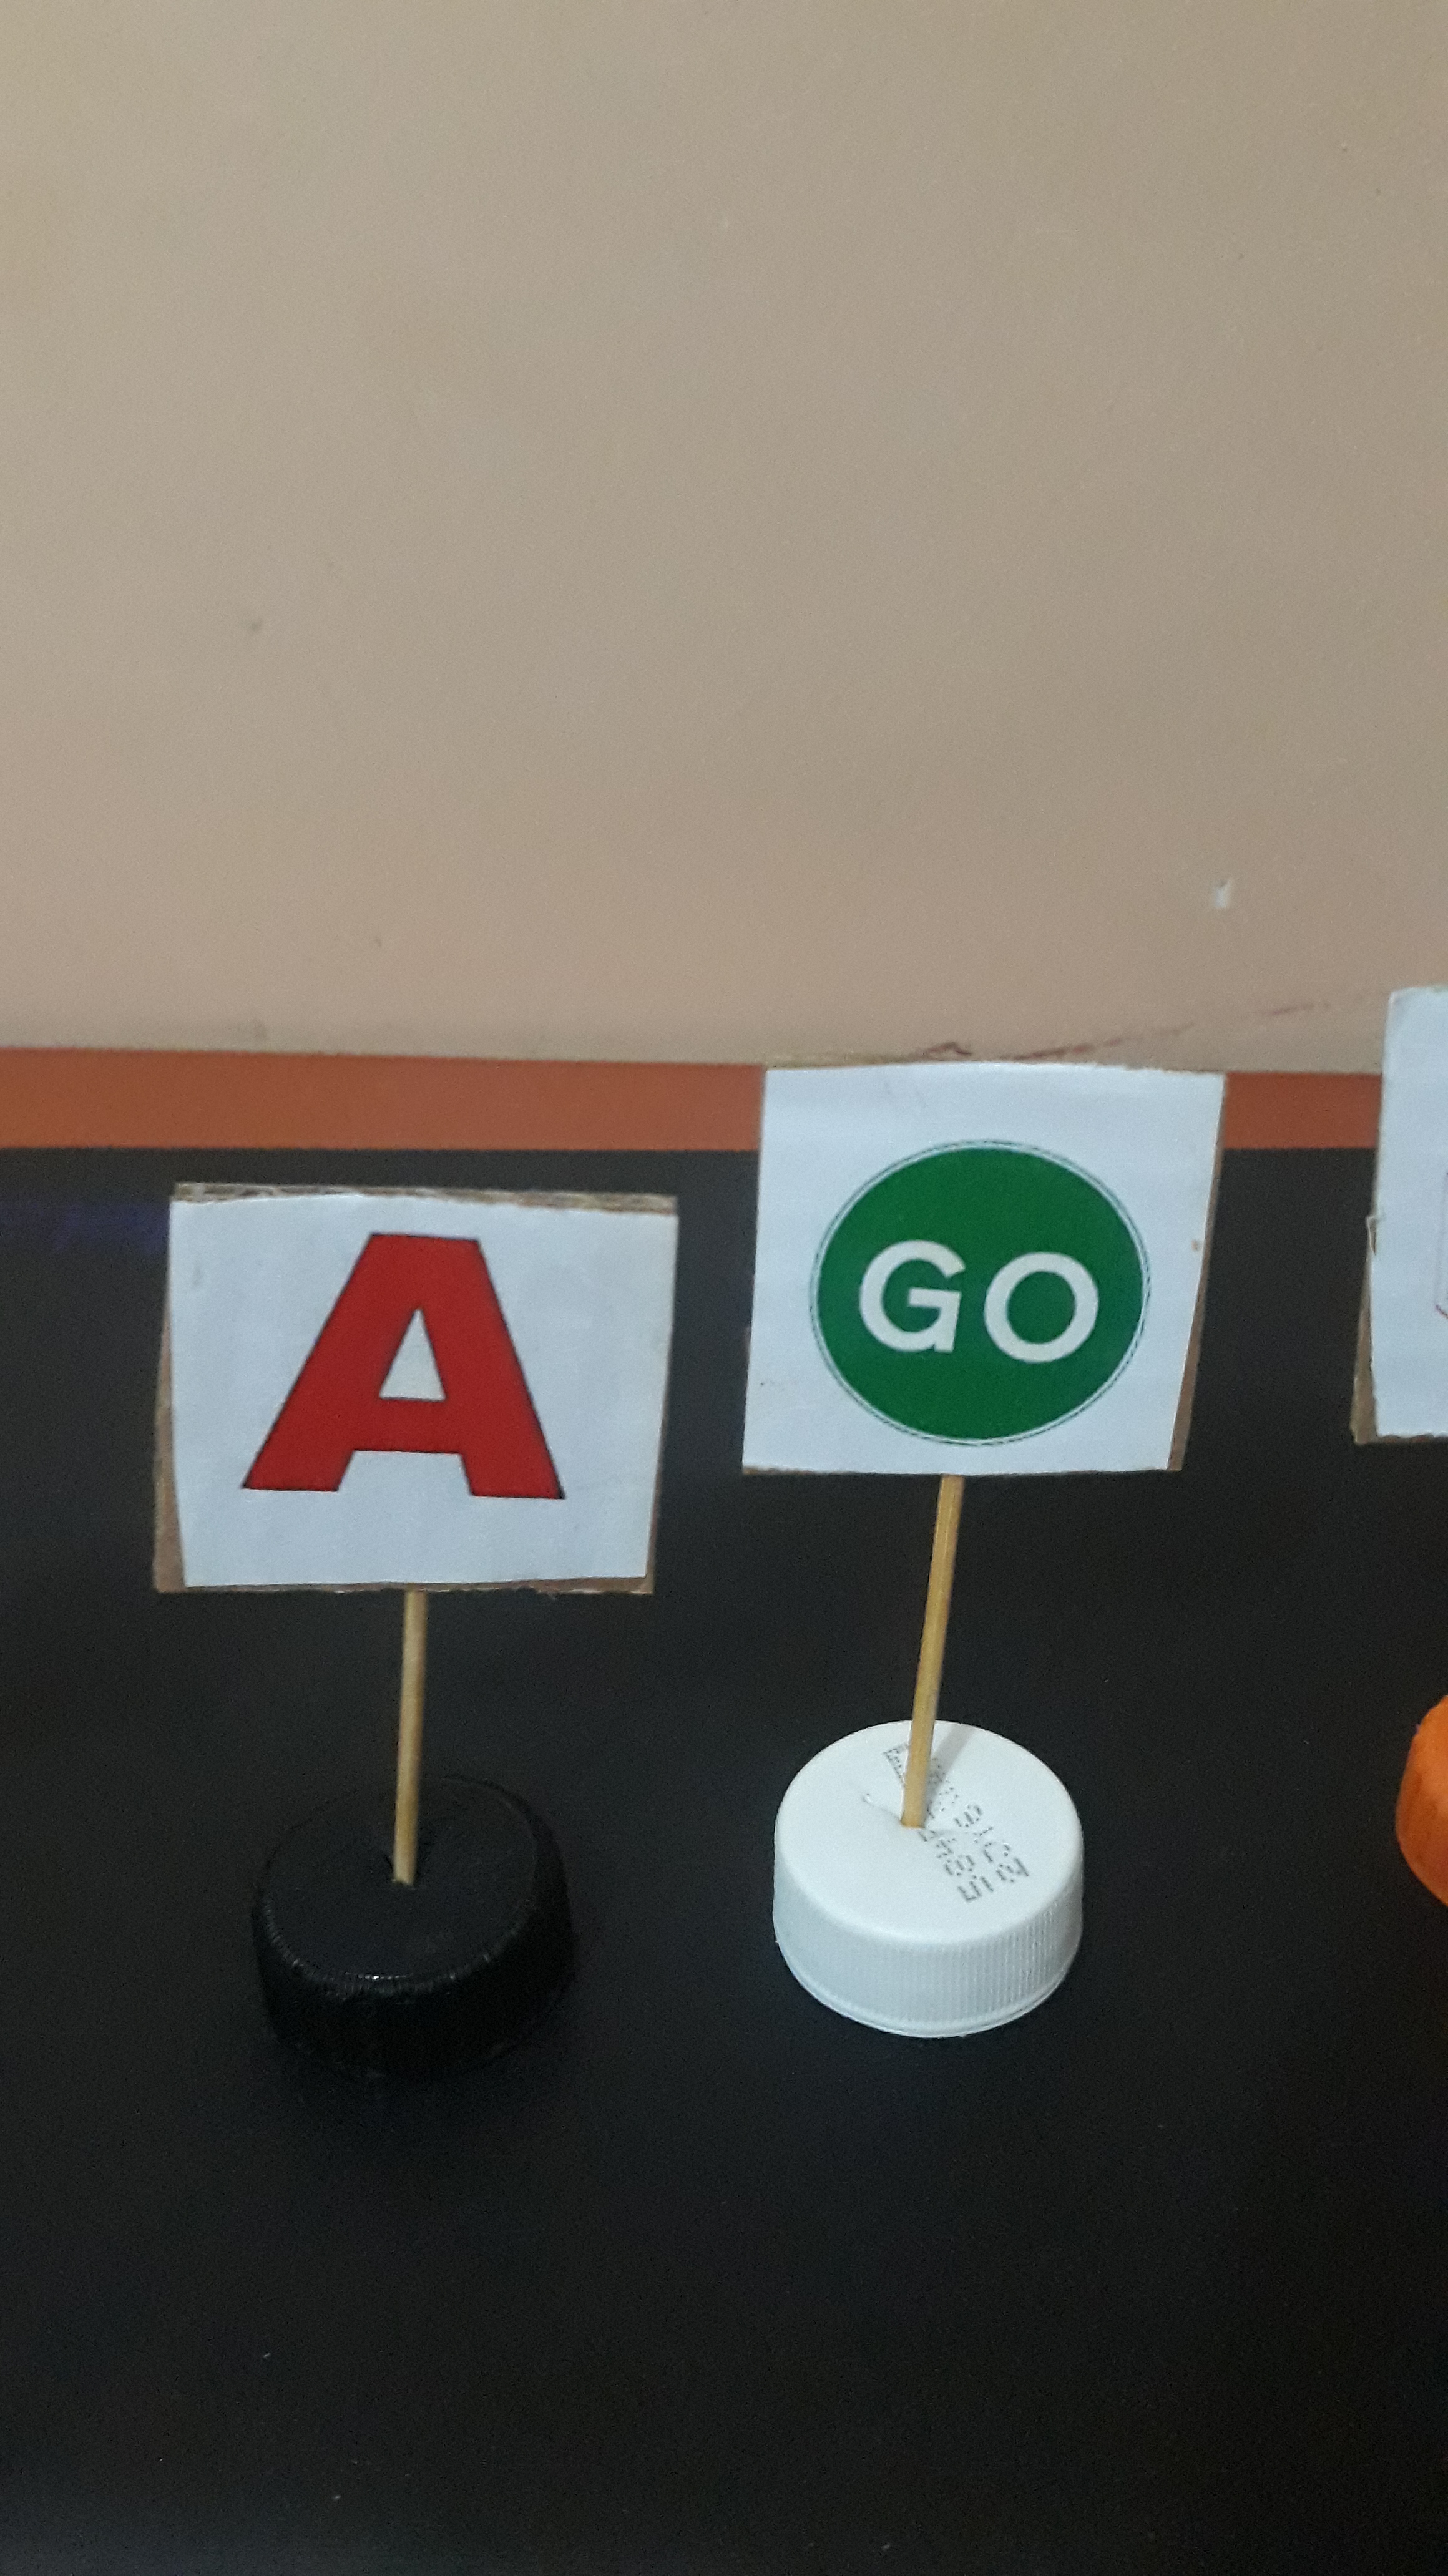go: (770, 1081, 1177, 1467)
zone A: (202, 1214, 627, 1566)
